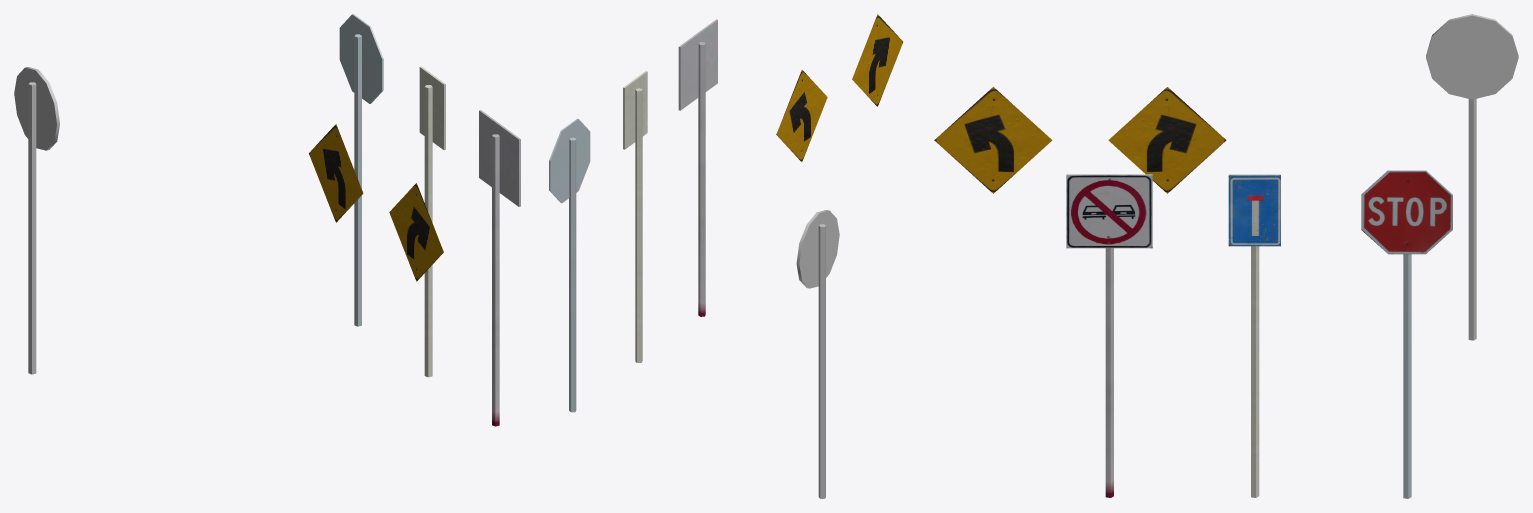
File: sighns.fbx
3 renders of one model, left to right at view 1: azimuth 30°, elevation 25°; view 2: azimuth 150°, elevation 25°; view 3: azimuth 270°, elevation 25°, orthographic. The views are drawn at different scales.
Visible parts, largest first — view 1: Sign.010, Sign, Sign.002, Sign.001, Sign.004, Sign.011; view 2: Sign, Sign.002, Sign.010, Sign.001, Sign.004, Sign.011; view 3: Sign, Sign.002, Sign.010, Sign.011, Sign.004, Sign.001.
Boxes of the visible parts, box(x1,y1,x2,y2) form: Sign.010: box(14, 67, 59, 374); Sign: box(479, 110, 520, 426); Sign.002: box(339, 14, 383, 326); Sign.001: box(419, 66, 445, 377); Sign.004: box(309, 124, 363, 222); Sign.011: box(389, 183, 443, 281); Sign: box(678, 19, 717, 316); Sign.002: box(549, 118, 590, 412); Sign.010: box(796, 210, 839, 498); Sign.001: box(623, 71, 647, 362); Sign.004: box(776, 70, 827, 161); Sign.011: box(852, 14, 902, 106); Sign: box(1066, 174, 1152, 497); Sign.002: box(1361, 170, 1452, 498); Sign.010: box(1426, 14, 1518, 340); Sign.011: box(934, 87, 1052, 193); Sign.004: box(1108, 87, 1226, 193); Sign.001: box(1228, 174, 1280, 497).
Bounding box in the file's own units: 154 × 153 × 238.
